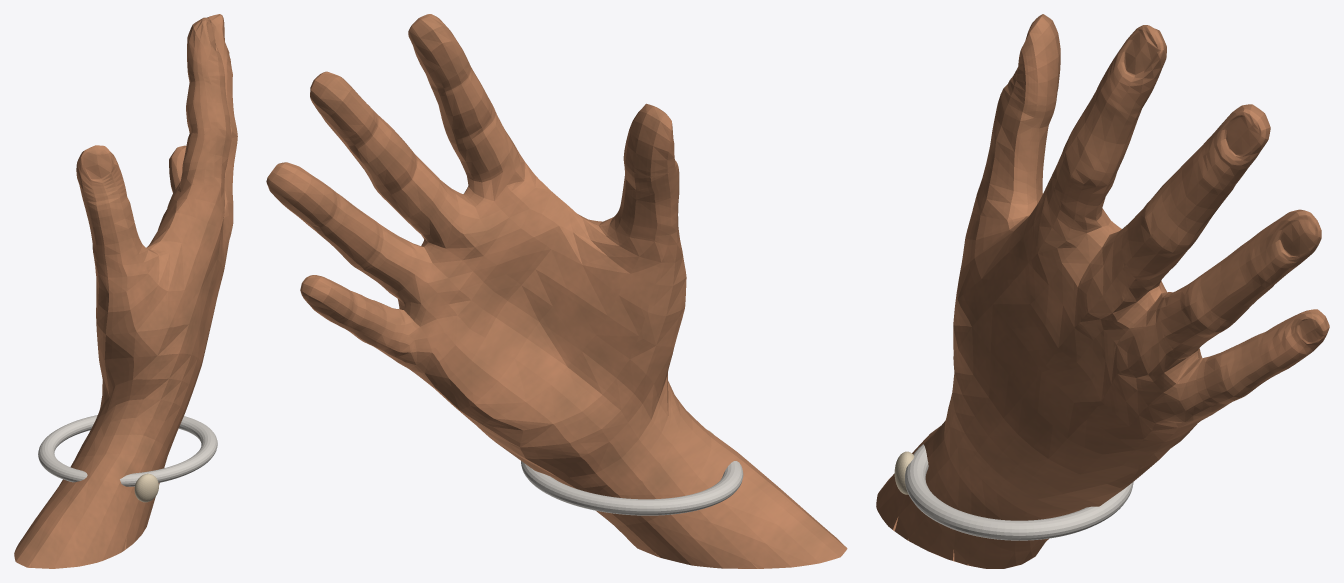
File: bracelet.glb
3 renders of one model, left to right at view 1: azimuth 30°, elevation 25°; view 2: azimuth 150°, elevation 25°; view 3: azimuth 270°, elevation 25°, orthographic. The views are drawn at different scales.
Parts seen in each view (by area): view 1: kwu_bracelet_skin_v7_surface_v14, kwu_bracelet_jewelry_01, kwu_bracelet_jewelry_02; view 2: kwu_bracelet_skin_v7_surface_v14, kwu_bracelet_jewelry_01; view 3: kwu_bracelet_skin_v7_surface_v14, kwu_bracelet_jewelry_01.
Part boxes in pixels (bbox=[...]): kwu_bracelet_skin_v7_surface_v14: bbox=[14, 14, 237, 568]; kwu_bracelet_jewelry_01: bbox=[38, 415, 217, 486]; kwu_bracelet_jewelry_02: bbox=[134, 473, 158, 502]; kwu_bracelet_skin_v7_surface_v14: bbox=[266, 14, 847, 568]; kwu_bracelet_jewelry_01: bbox=[521, 461, 743, 515]; kwu_bracelet_skin_v7_surface_v14: bbox=[876, 14, 1329, 568]; kwu_bracelet_jewelry_01: bbox=[905, 444, 1133, 540].
Bounding box in the file's own units: 2.03 × 2.49 × 1.64.
1 material, 1 textured.
